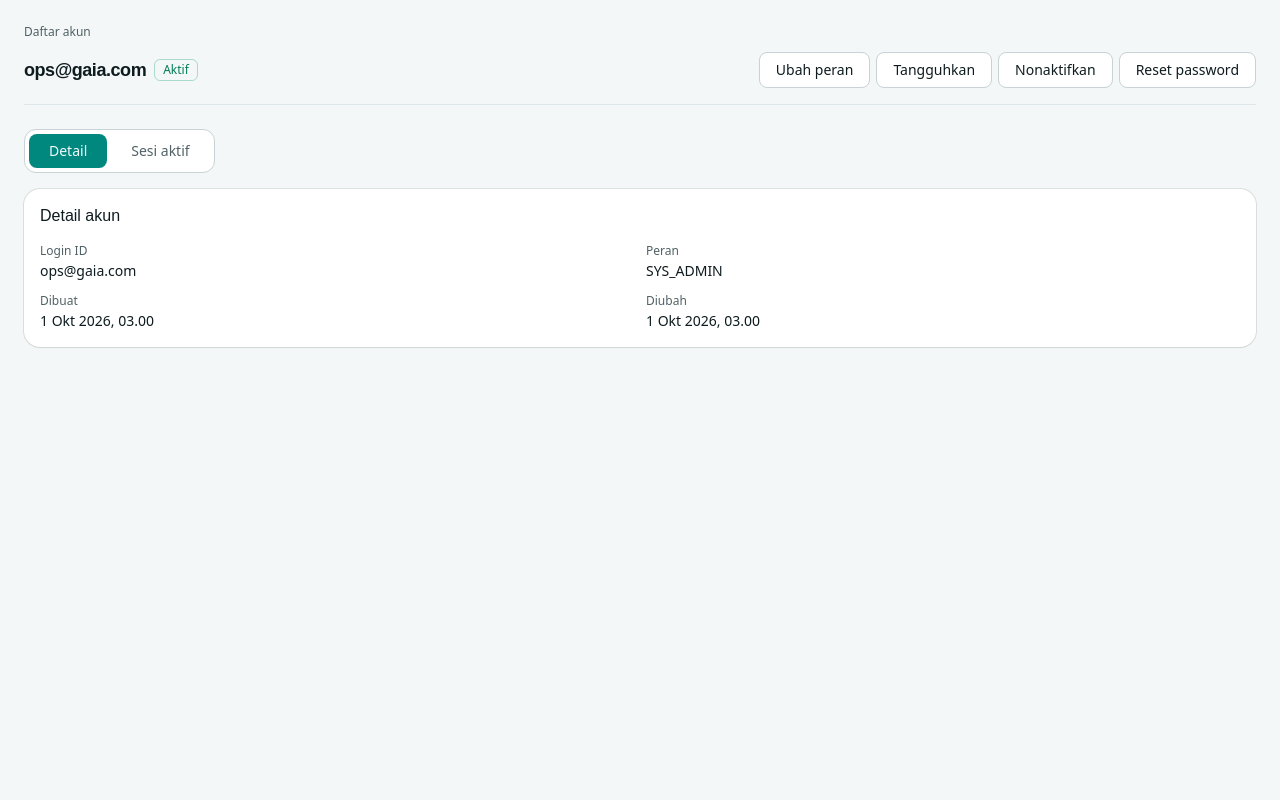
Test case: force logout of another account (D4.10, D13.1) › 409 SOMETHING_UNRECOGNISED shows the fixed copy with the reference id, never the server text
Expected: the heading "ops@gaia.com" is shown, [24,56,146,84]
Click the tab "Sesi aktif".
click(160, 151)  # box [111,134,210,168]
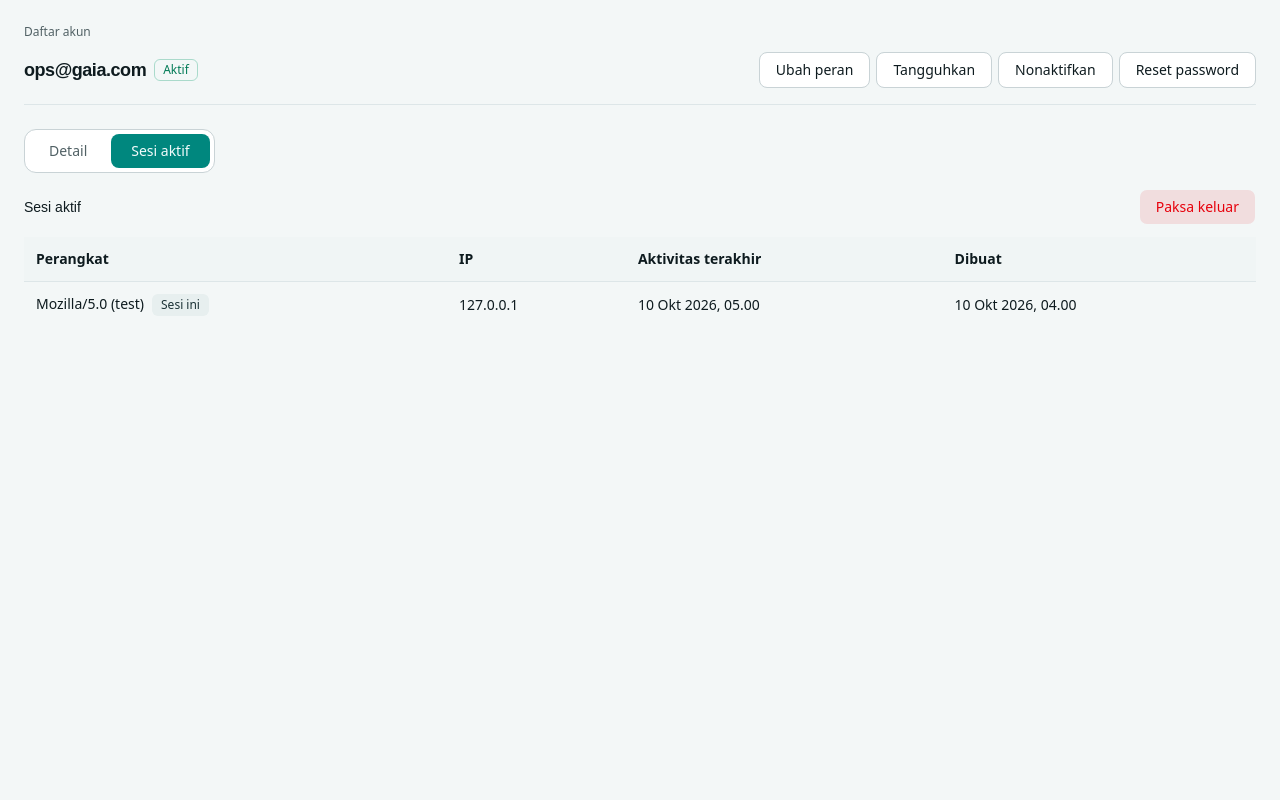
Now the table named "Sesi aktif akun" is shown, box [24,237,1256,328]
Click the button "Paksa keluar".
click(1197, 207)  # box [1139,189,1256,225]
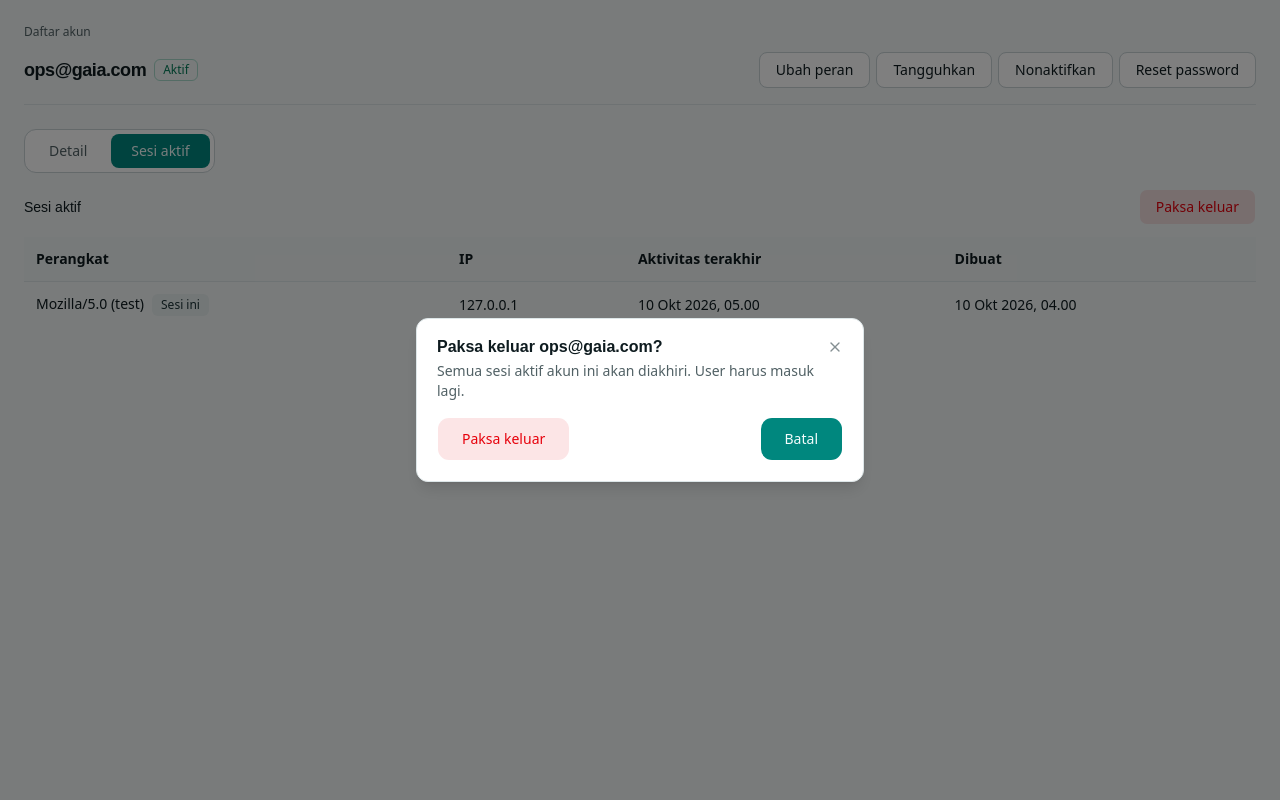
Click the button "Paksa keluar".
click(504, 439)  # box [437,417,570,461]
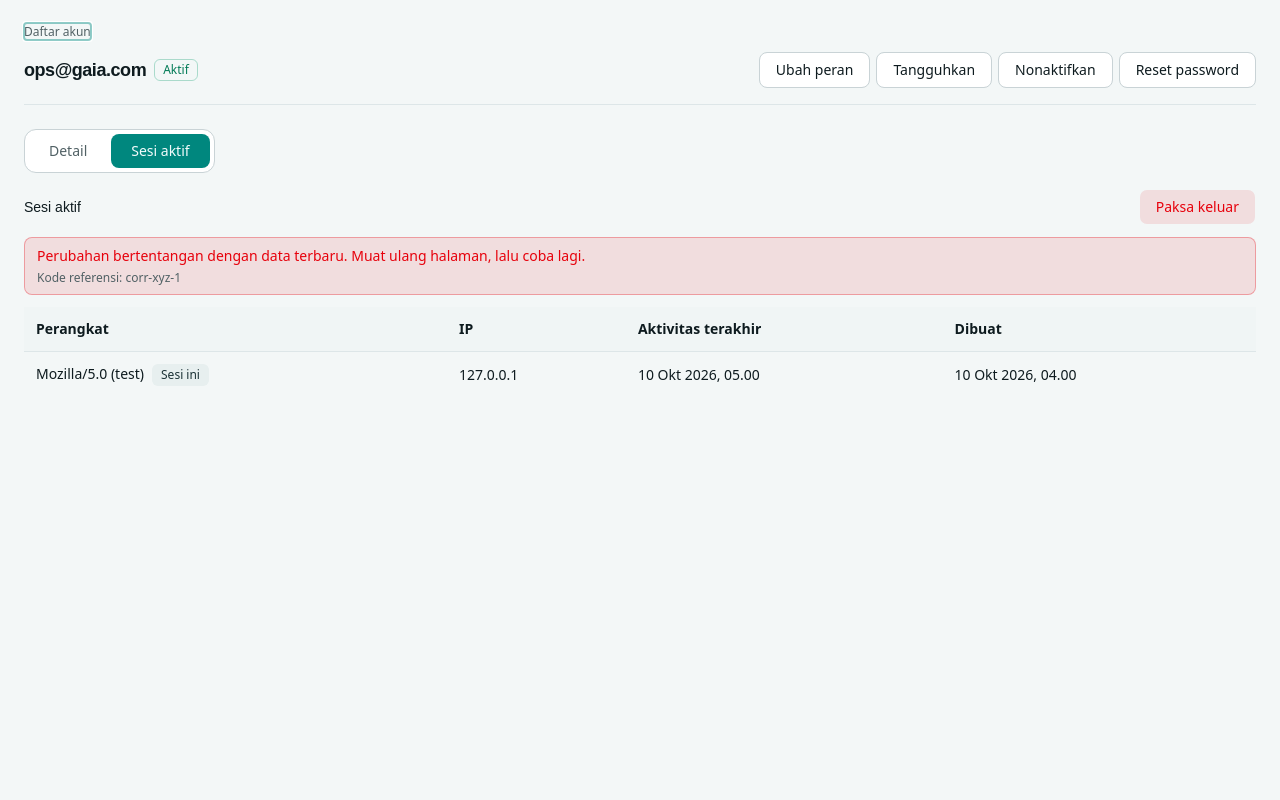
Expected: the message does not show "SERVER TEXT MUST NOT SHOW", [24,237,1256,295]
Now the message shows "Perubahan bertentangan dengan data terbaru. Muat ulang halaman, lalu coba lagi.", box [37,246,585,265]
Now the message shows "Kode referensi: corr-xyz-1", box [37,269,181,286]
